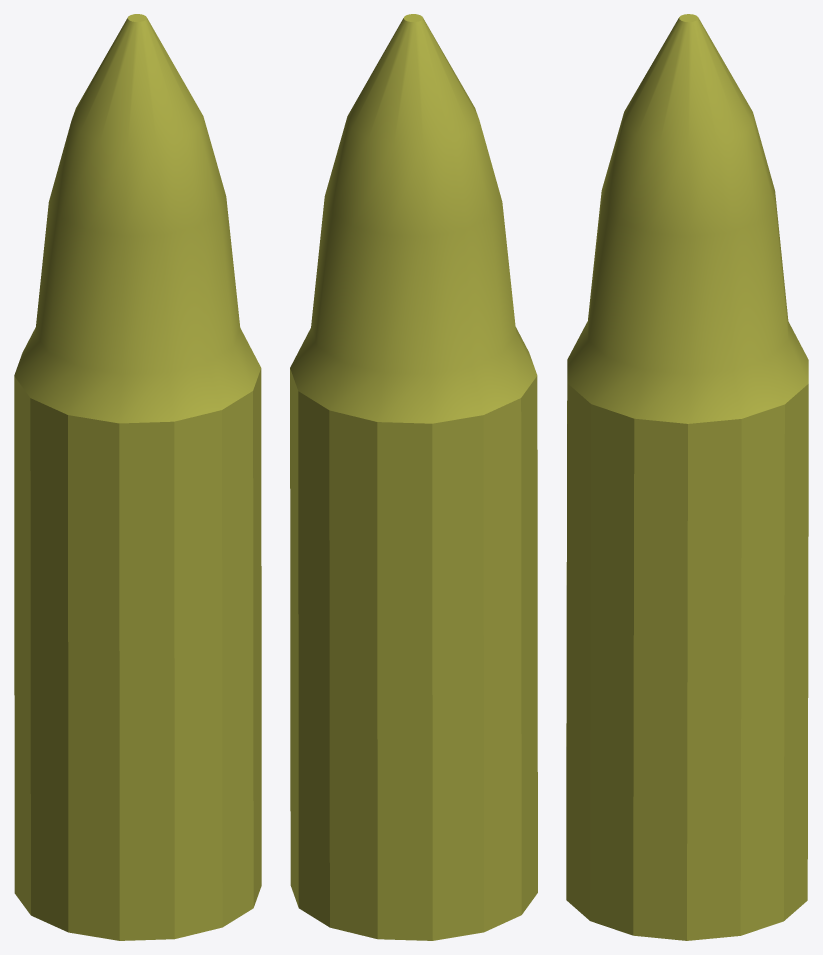
Rendered from Bala.FBX.
3 views of the same model, side by side, from view 1: azimuth 30°, elevation 25°; view 2: azimuth 150°, elevation 25°; view 3: azimuth 270°, elevation 25° (orthographic).
Parts seen in each view (by area): view 1: Bala; view 2: Bala; view 3: Bala.
Part boxes in pixels (<box>): Bala: <box>14,14,261,940</box>; Bala: <box>290,14,537,940</box>; Bala: <box>566,14,808,940</box>.
Bounding box in the file's own units: 0.8526 × 3.31 × 0.8349.
